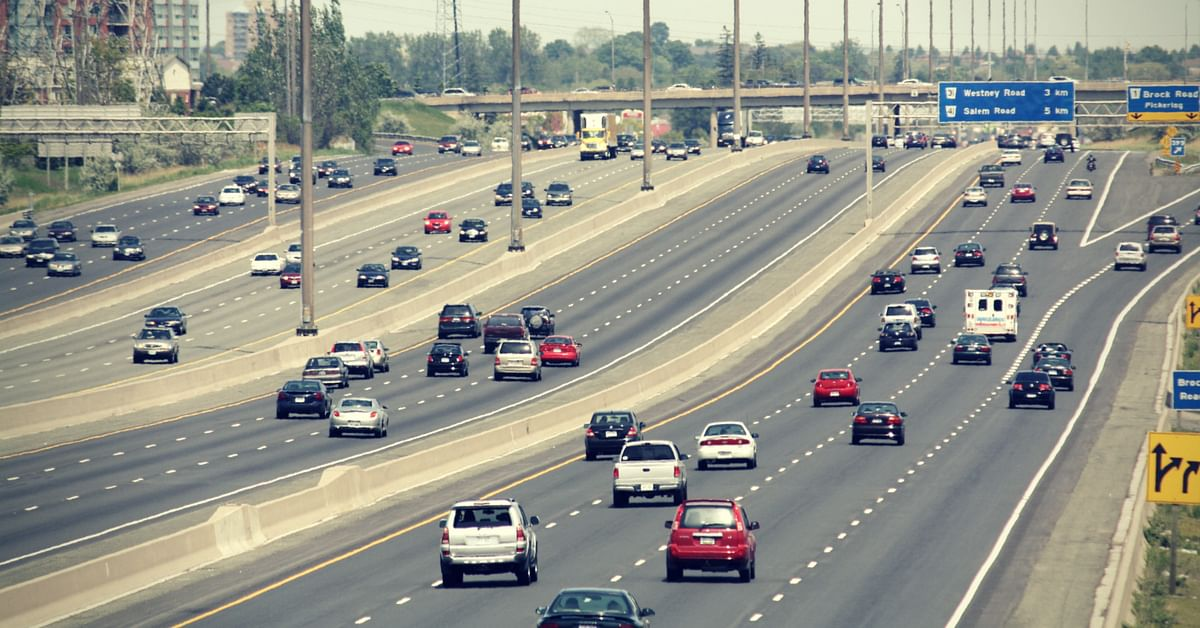Car: (685, 418, 771, 468), (131, 327, 181, 368), (352, 262, 393, 293), (423, 209, 453, 238), (394, 243, 425, 269), (459, 218, 489, 243)
Truck: (576, 110, 619, 164)
Van: (432, 496, 557, 591)
